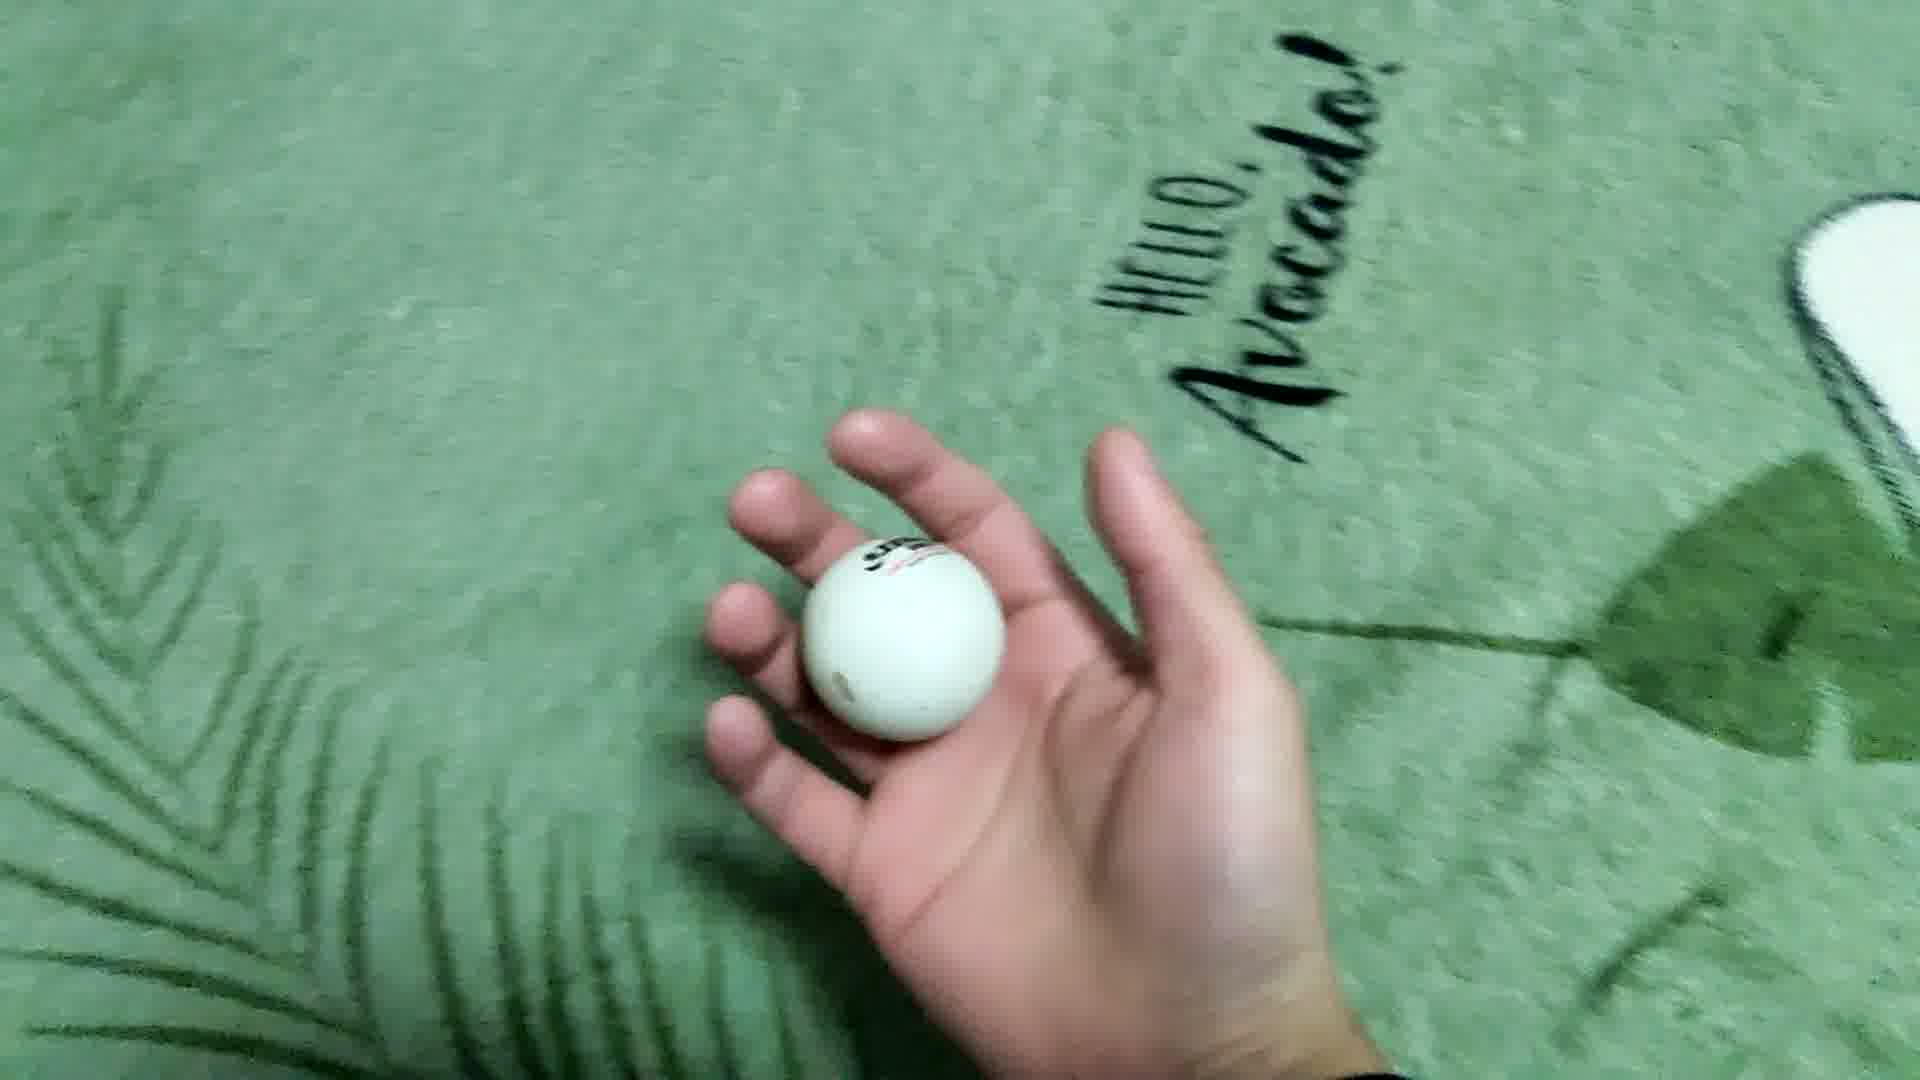Ball: (799, 537, 1001, 740)
